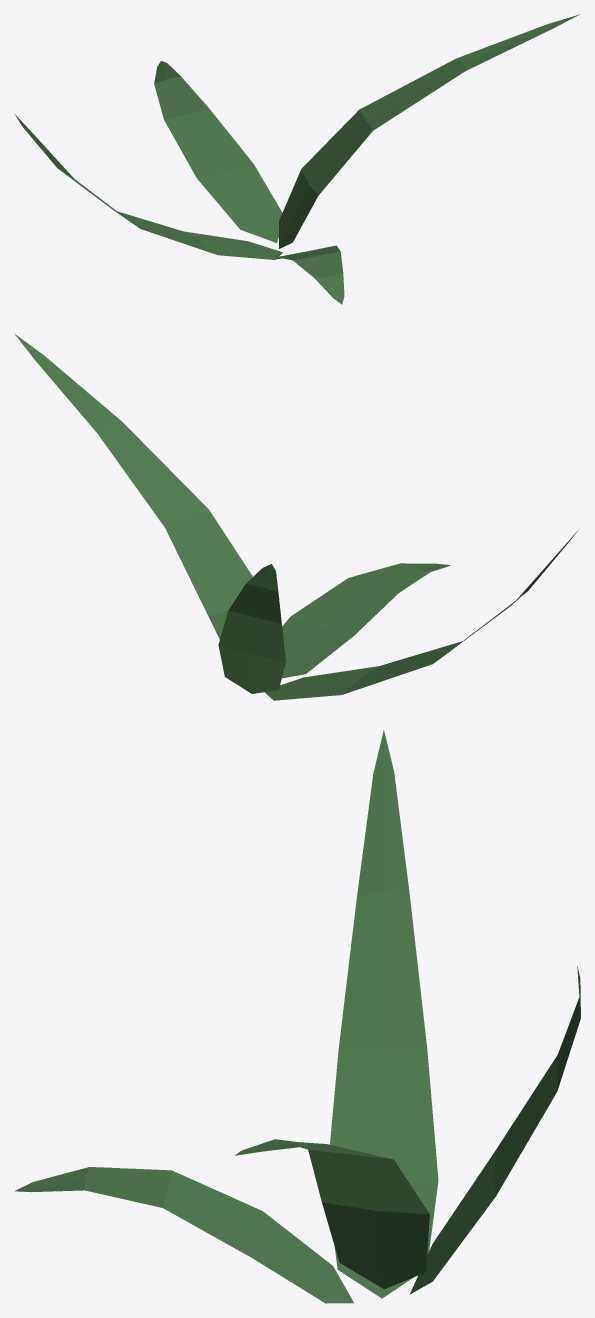
Rendered from weeds.glb.
3 views of the same model, one above another, from view 1: azimuth 30°, elevation 25°; view 2: azimuth 150°, elevation 25°; view 3: azimuth 270°, elevation 25° (orthographic). The views are drawn at different scales.
Visible parts, largest first — view 1: Plane; view 2: Plane; view 3: Plane.
Part boxes in pixels (x1,y1,x2,y2): Plane: (15,14,580,304); Plane: (15,334,577,700); Plane: (14,730,580,1303).
Size of the model in its own units: 0.5467 by 0.208 by 0.3028.
